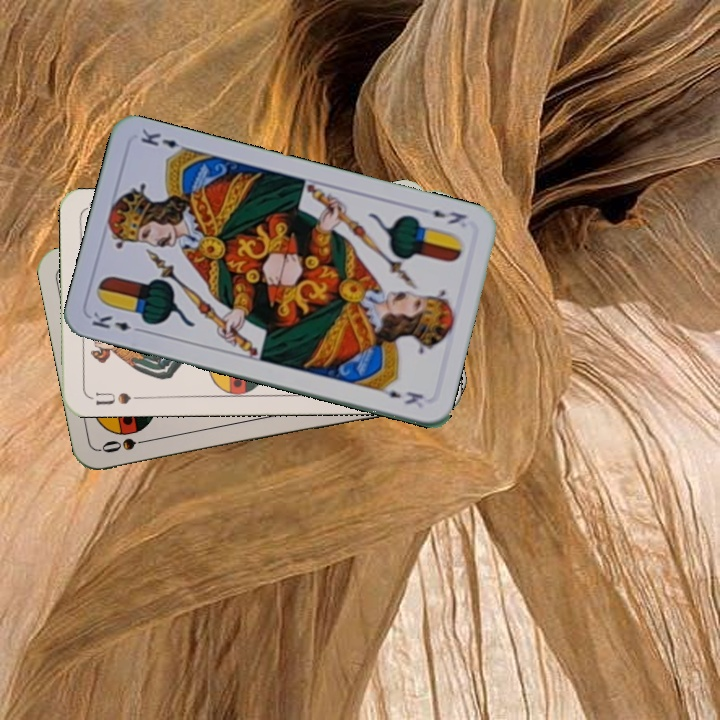EK: (87, 308, 146, 335), (428, 206, 469, 227)
SO: (97, 433, 156, 456)
SU: (86, 388, 145, 407)
